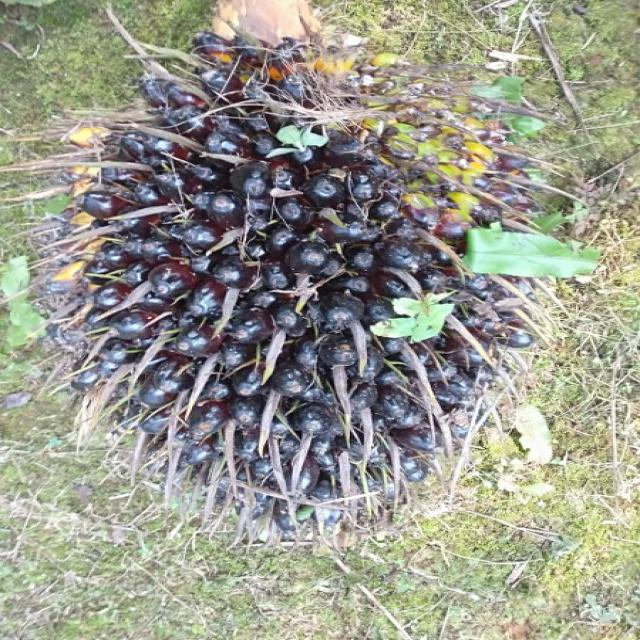fraksi 00: (28, 35, 578, 532)
